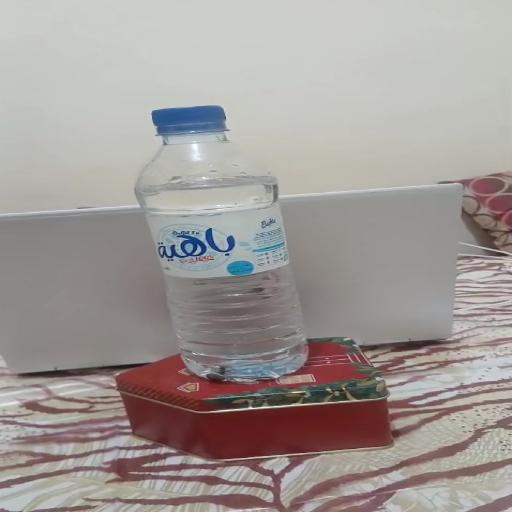bouteille conformite: (116, 88, 374, 387)
